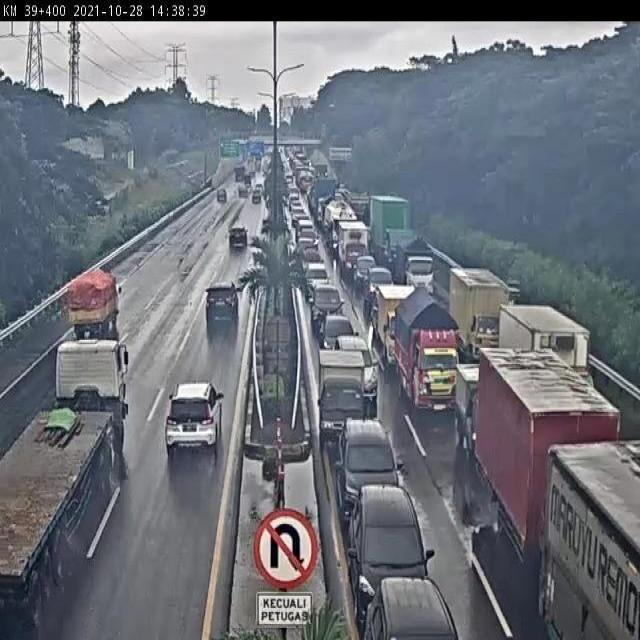big truck: (0, 330, 137, 640), (475, 340, 618, 580), (542, 432, 640, 640)
car: (346, 481, 430, 591), (353, 569, 463, 640), (335, 414, 413, 506), (159, 373, 226, 463), (199, 269, 245, 332), (219, 216, 256, 257)
small truck: (500, 300, 599, 400), (393, 284, 463, 421), (318, 349, 377, 456), (59, 264, 128, 339), (377, 284, 417, 369)
